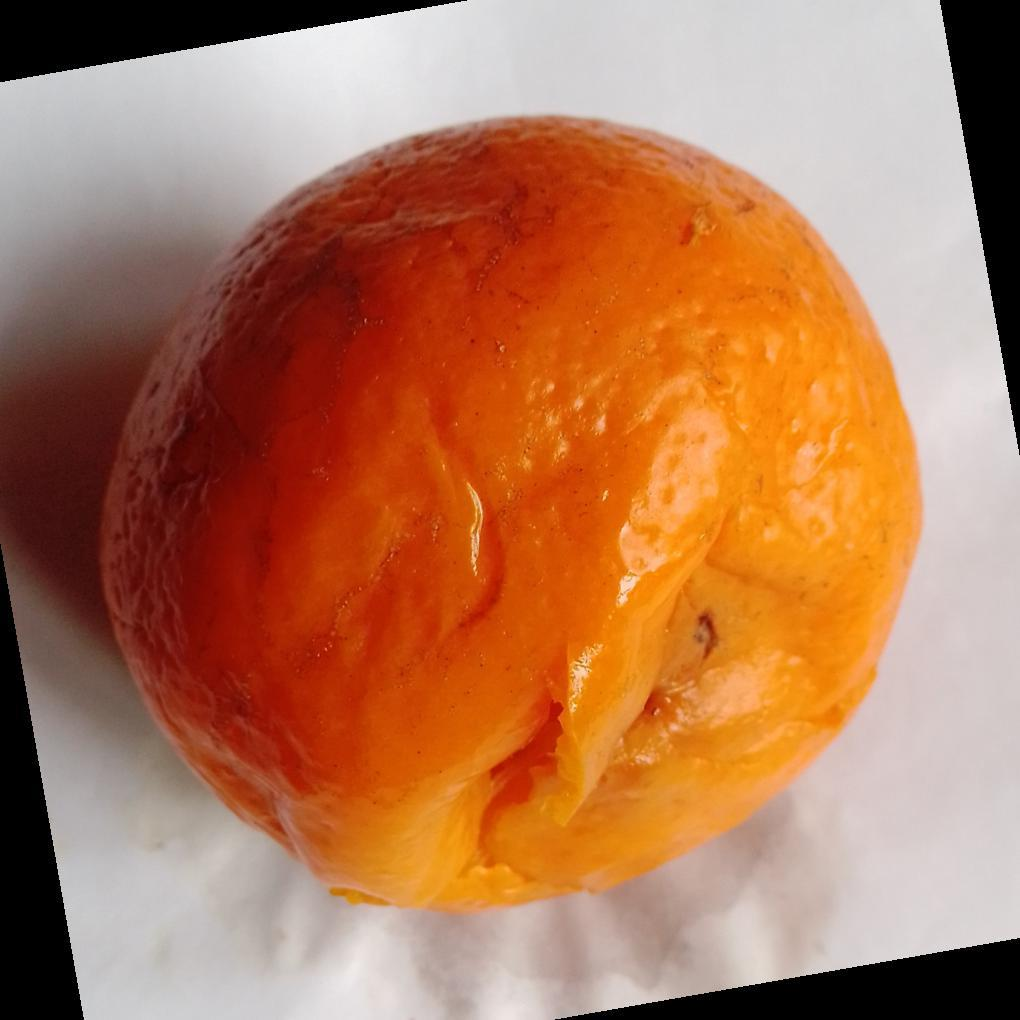FreshOrange: (95, 116, 925, 916)
